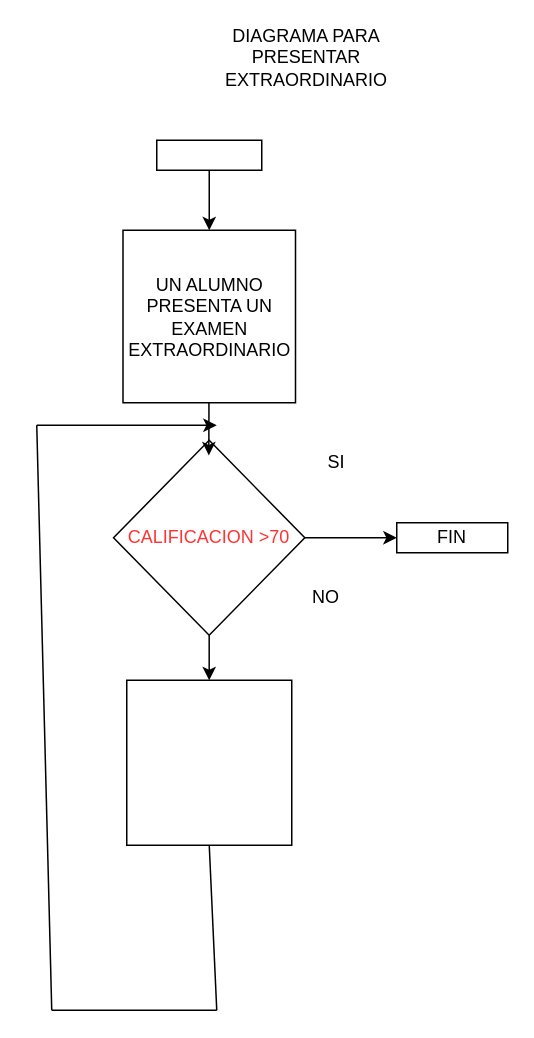
Image size: 534x1038. Some labels were removed from this diagram. The box of each missing label's shape, as (x1, y1, x2, y2) in pixels:
INICIO: (155, 139, 262, 170)
SOLICITE A CONSEJO UNA OPORTUNIDAD: (125, 679, 292, 845)
